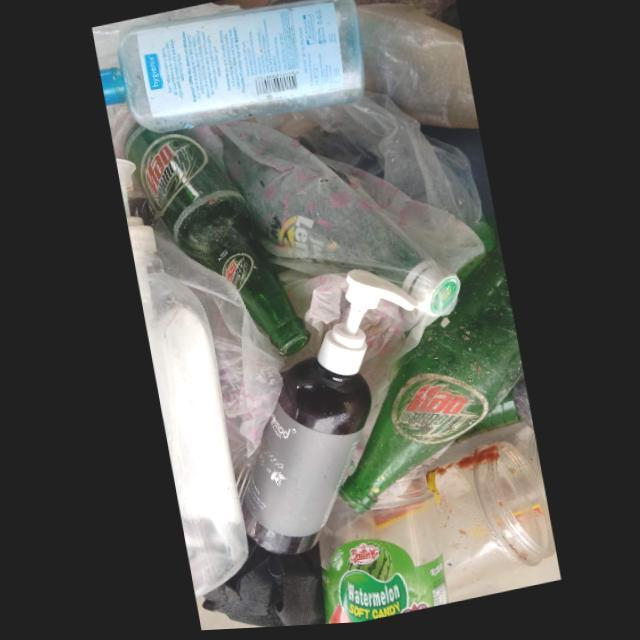glass: (188, 123, 460, 321), (337, 238, 521, 517), (125, 125, 312, 360)
plastic: (115, 157, 247, 595), (239, 272, 426, 557), (100, 0, 366, 134), (317, 471, 447, 627), (425, 446, 554, 595)
